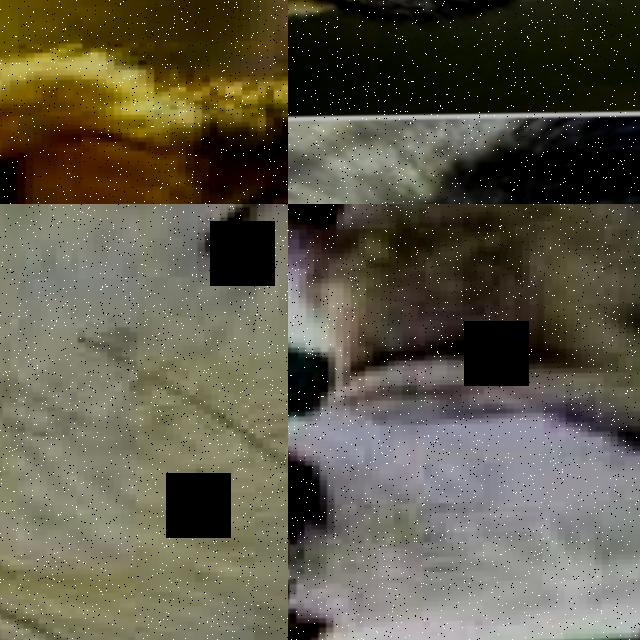dog: (288, 204, 640, 640), (0, 0, 288, 204)
wolf: (0, 204, 288, 640), (288, 116, 640, 204), (288, 0, 640, 59)
